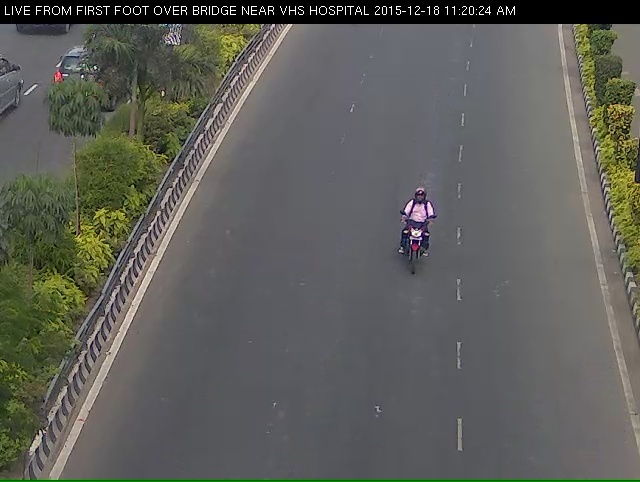Person: (395, 199, 433, 294)
